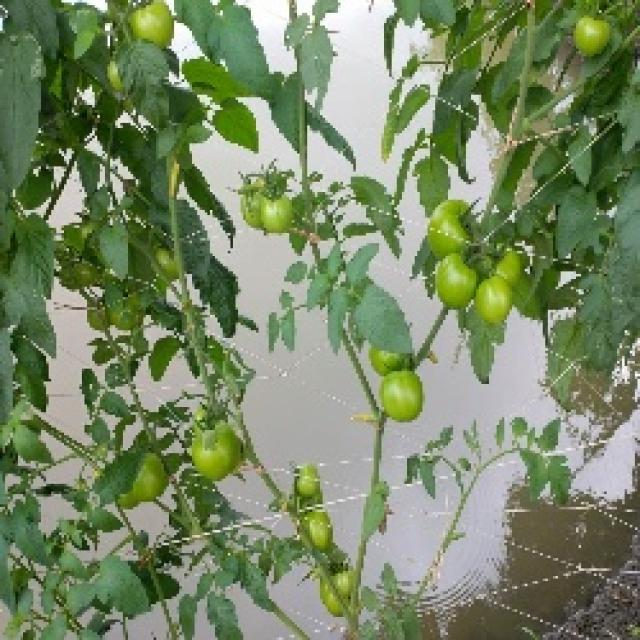tomato: (372, 369, 449, 440), (429, 258, 489, 325), (183, 420, 243, 486), (119, 1, 185, 55), (419, 198, 479, 253), (255, 184, 304, 244), (313, 565, 363, 622), (571, 10, 624, 57), (129, 451, 174, 502), (302, 510, 345, 563), (477, 237, 526, 283), (477, 277, 519, 322), (293, 464, 328, 503)
